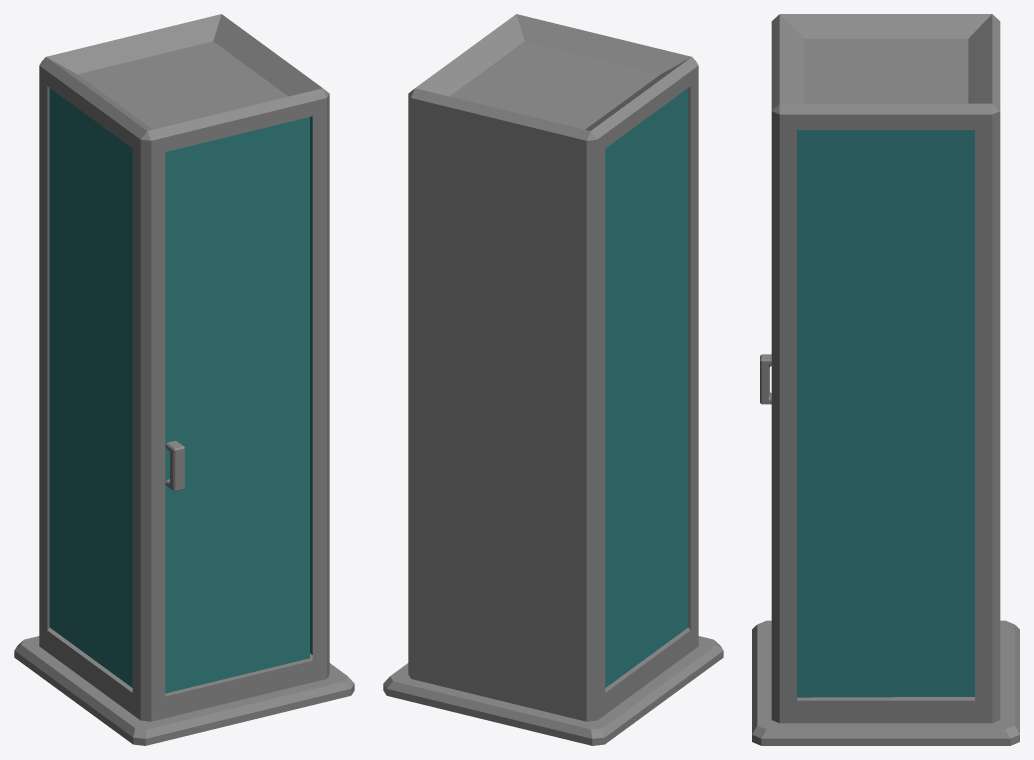
Rendered from Shower.glb.
3 views of the same model, side by side, from view 1: azimuth 30°, elevation 25°; view 2: azimuth 150°, elevation 25°; view 3: azimuth 270°, elevation 25° (orthographic). The views are drawn at different scales.
Parts seen in each view (by area): view 1: Shower; view 2: Shower; view 3: Shower.
Boxes of the visible parts, left/top/right/bottom form: Shower: left=14, top=14, right=354, bottom=745; Shower: left=383, top=14, right=723, bottom=745; Shower: left=752, top=14, right=1019, bottom=745.
Bounding box in the file's own units: 349 × 906 × 349.
